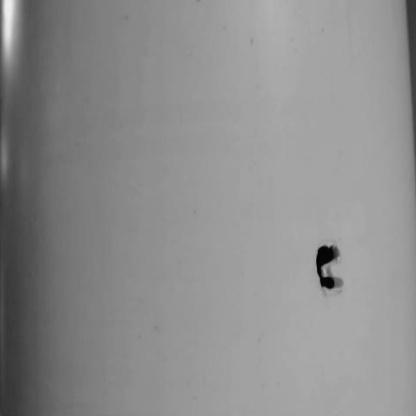kongdong: (308, 225, 348, 307)
